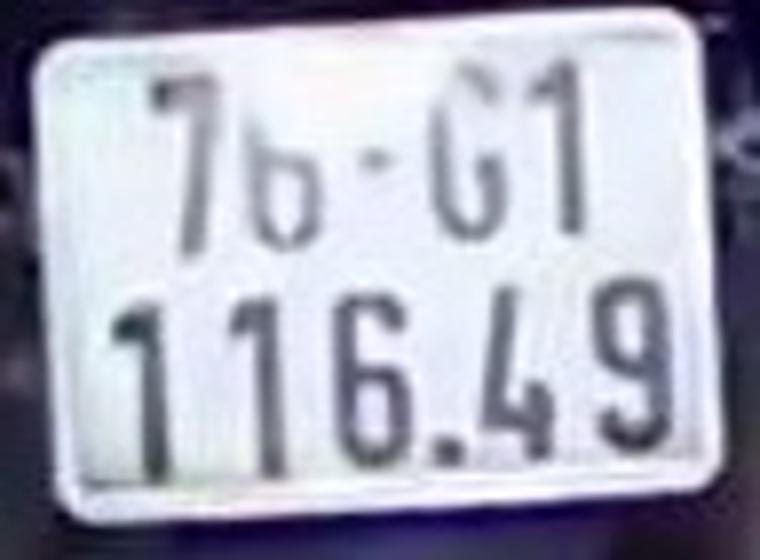-: (353, 145, 403, 181)
.: (428, 428, 470, 476)
1: (99, 287, 190, 490), (524, 54, 606, 247), (219, 294, 299, 490)
4: (477, 271, 566, 471)
6: (324, 285, 424, 478), (238, 76, 338, 262)
7: (136, 70, 230, 265)
9: (580, 272, 681, 459)
G: (413, 60, 520, 249)
